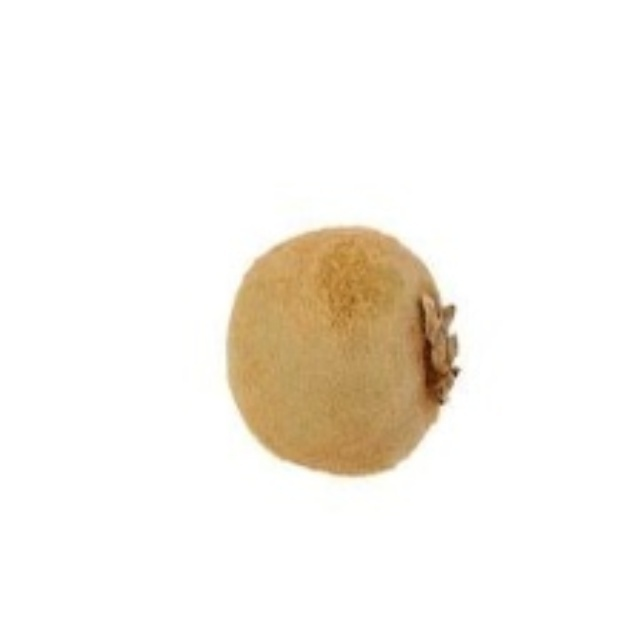kiwi: (227, 225, 459, 480)
